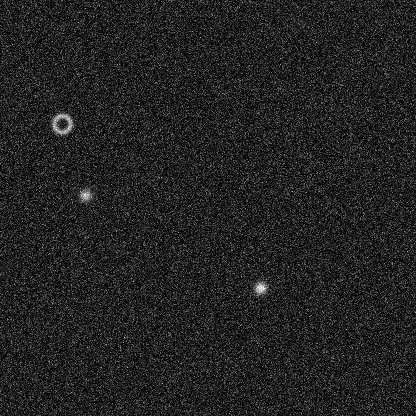Ring: (49, 111, 73, 135)
Spot: (252, 280, 268, 296), (77, 187, 93, 203)
